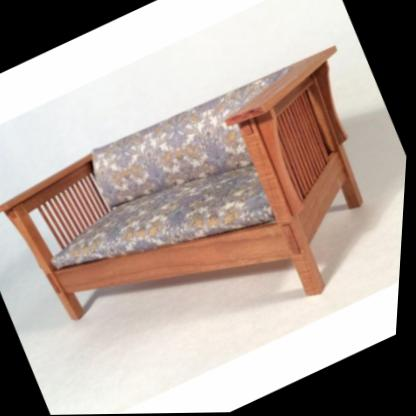Sofa: (0, 36, 414, 414)
